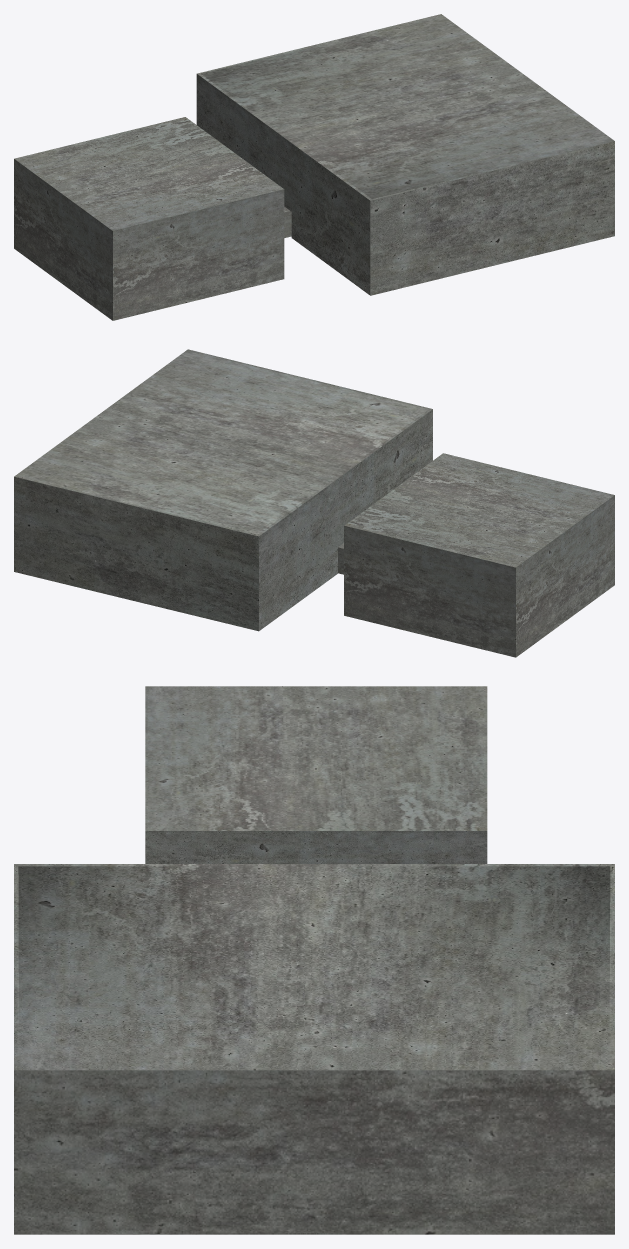
Rendered from scp_room_939.dae.
3 views of the same model, one above another, from view 1: azimuth 30°, elevation 25°; view 2: azimuth 150°, elevation 25°; view 3: azimuth 270°, elevation 25° (orthographic). The views are drawn at different scales.
Visible parts, largest first — view 1: Chamber; view 2: Chamber; view 3: Chamber.
Boxes of the visible parts, bbox=[...] form: Chamber: bbox=[14, 14, 614, 320]; Chamber: bbox=[14, 349, 614, 657]; Chamber: bbox=[14, 686, 614, 1234].
Bounding box in the file's own units: 138 × 89.26 × 26.94.
